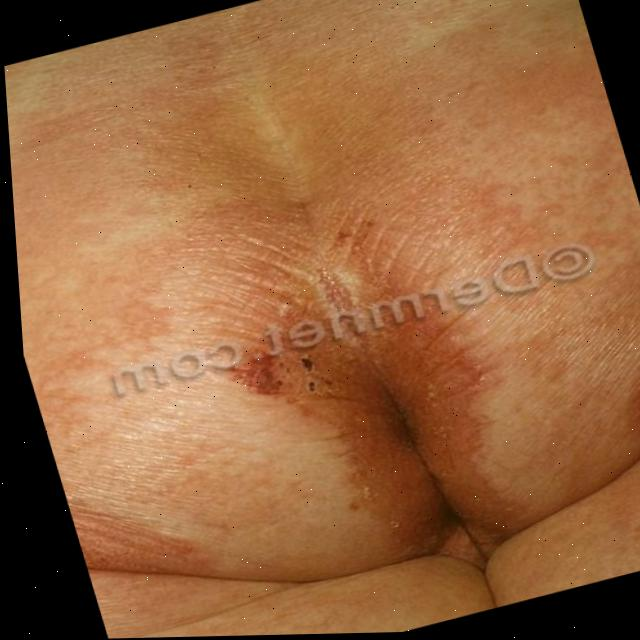Eczema: (183, 240, 530, 558)
